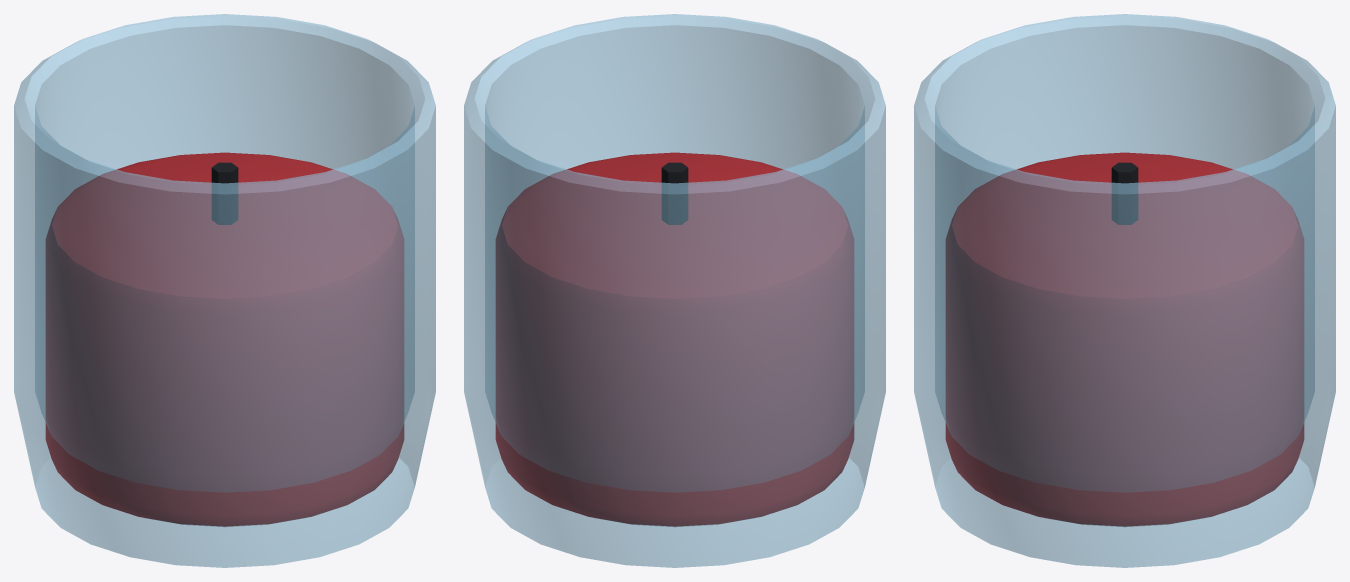
Rendered from vela_copo_vermelha.glb.
3 views of the same model, side by side, from view 1: azimuth 30°, elevation 25°; view 2: azimuth 150°, elevation 25°; view 3: azimuth 270°, elevation 25° (orthographic).
Visible parts, largest first — view 1: vela_copo_vermelha; view 2: vela_copo_vermelha; view 3: vela_copo_vermelha.
Part boxes in pixels (bbox=[...]): vela_copo_vermelha: bbox=[14, 14, 435, 567]; vela_copo_vermelha: bbox=[464, 14, 885, 567]; vela_copo_vermelha: bbox=[914, 14, 1335, 567].
Bounding box in the file's own units: 0.08 × 0.0814 × 0.08.
Materials: 2 (1 with a texture image).
